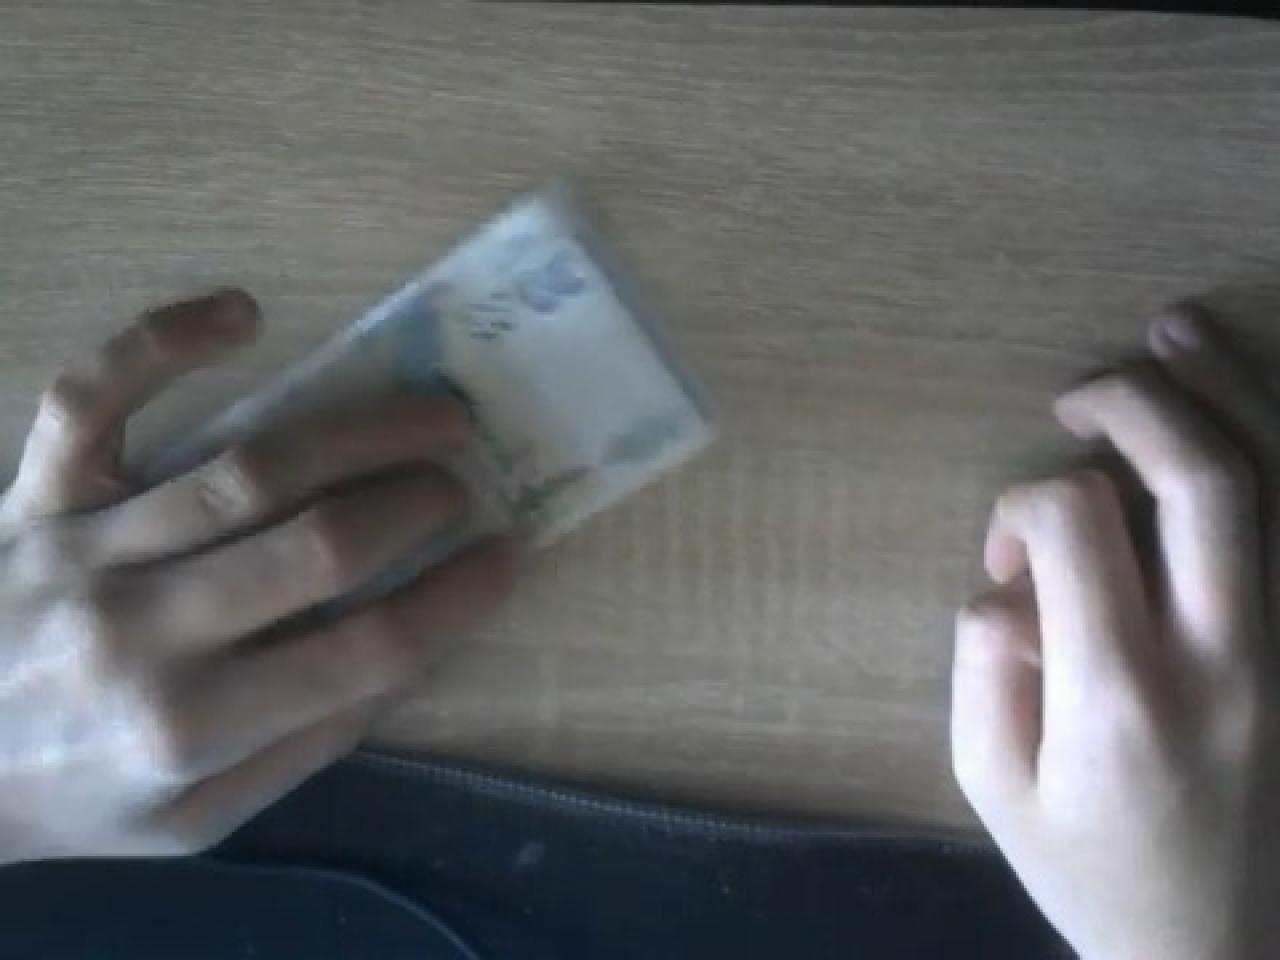20leva: (128, 173, 723, 544)
